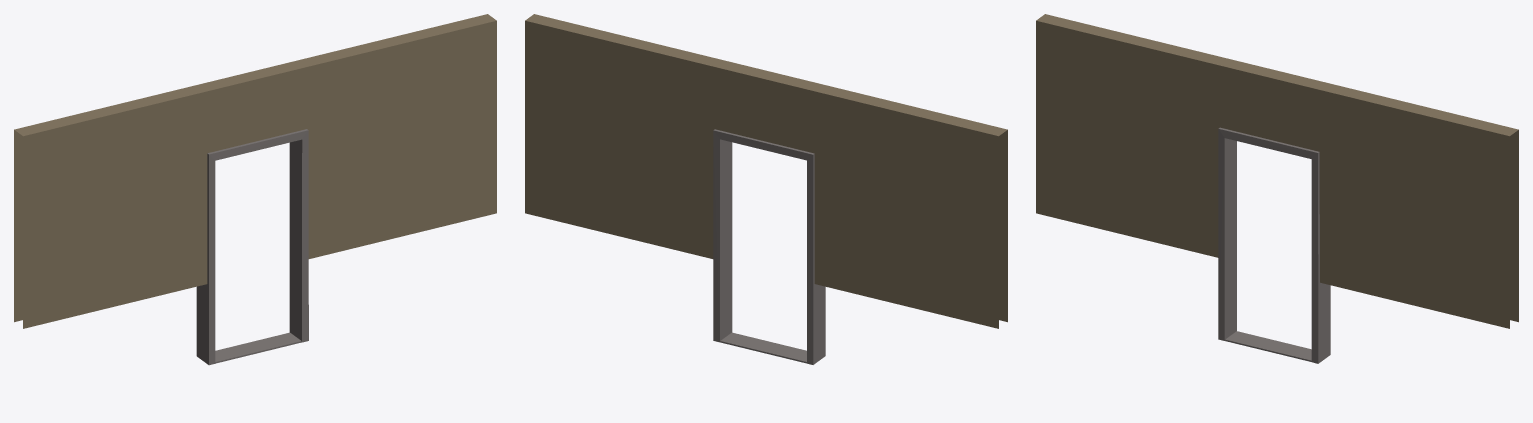
The model's file is SM_DoorFrame_A2_600.fbx.
3 renders of one model, left to right at view 1: azimuth 30°, elevation 25°; view 2: azimuth 150°, elevation 25°; view 3: azimuth 330°, elevation 25°, orthographic.
Visible parts, largest first — view 1: SM_DoorFrame_A2_600; view 2: SM_DoorFrame_A2_600; view 3: SM_DoorFrame_A2_600.
Boxes of the visible parts, x1=… form: SM_DoorFrame_A2_600: x1=14, y1=14, x2=496, y2=365; SM_DoorFrame_A2_600: x1=525, y1=14, x2=1007, y2=364; SM_DoorFrame_A2_600: x1=1036, y1=14, x2=1518, y2=363.
Bounding box in the file's own units: 600 × 330 × 27.36.
4 materials, 4 textured.
